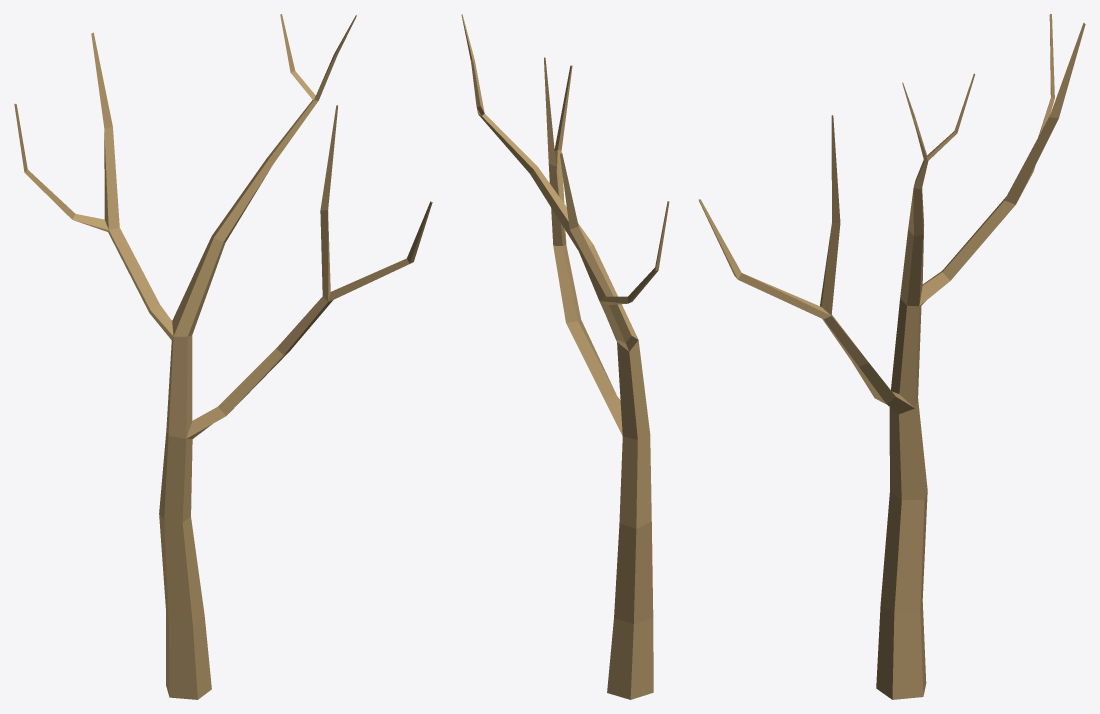
File: Acacia_Tree_NoLeaves_l_05_LOD.fbx
3 renders of one model, left to right at view 1: azimuth 30°, elevation 25°; view 2: azimuth 150°, elevation 25°; view 3: azimuth 270°, elevation 25°, orthographic. The views are drawn at different scales.
Parts seen in each view (by area): view 1: Acacia_Tree_NoLeaves_l_05_LOD0; view 2: Acacia_Tree_NoLeaves_l_05_LOD0; view 3: Acacia_Tree_NoLeaves_l_05_LOD0.
Part boxes in pixels (x1=…): Acacia_Tree_NoLeaves_l_05_LOD0: x1=14, y1=14, x2=432, y2=699; Acacia_Tree_NoLeaves_l_05_LOD0: x1=461, y1=14, x2=669, y2=699; Acacia_Tree_NoLeaves_l_05_LOD0: x1=698, y1=14, x2=1085, y2=699.
Size of what is drawn, in the model's own units: 473 by 1043 by 525.
